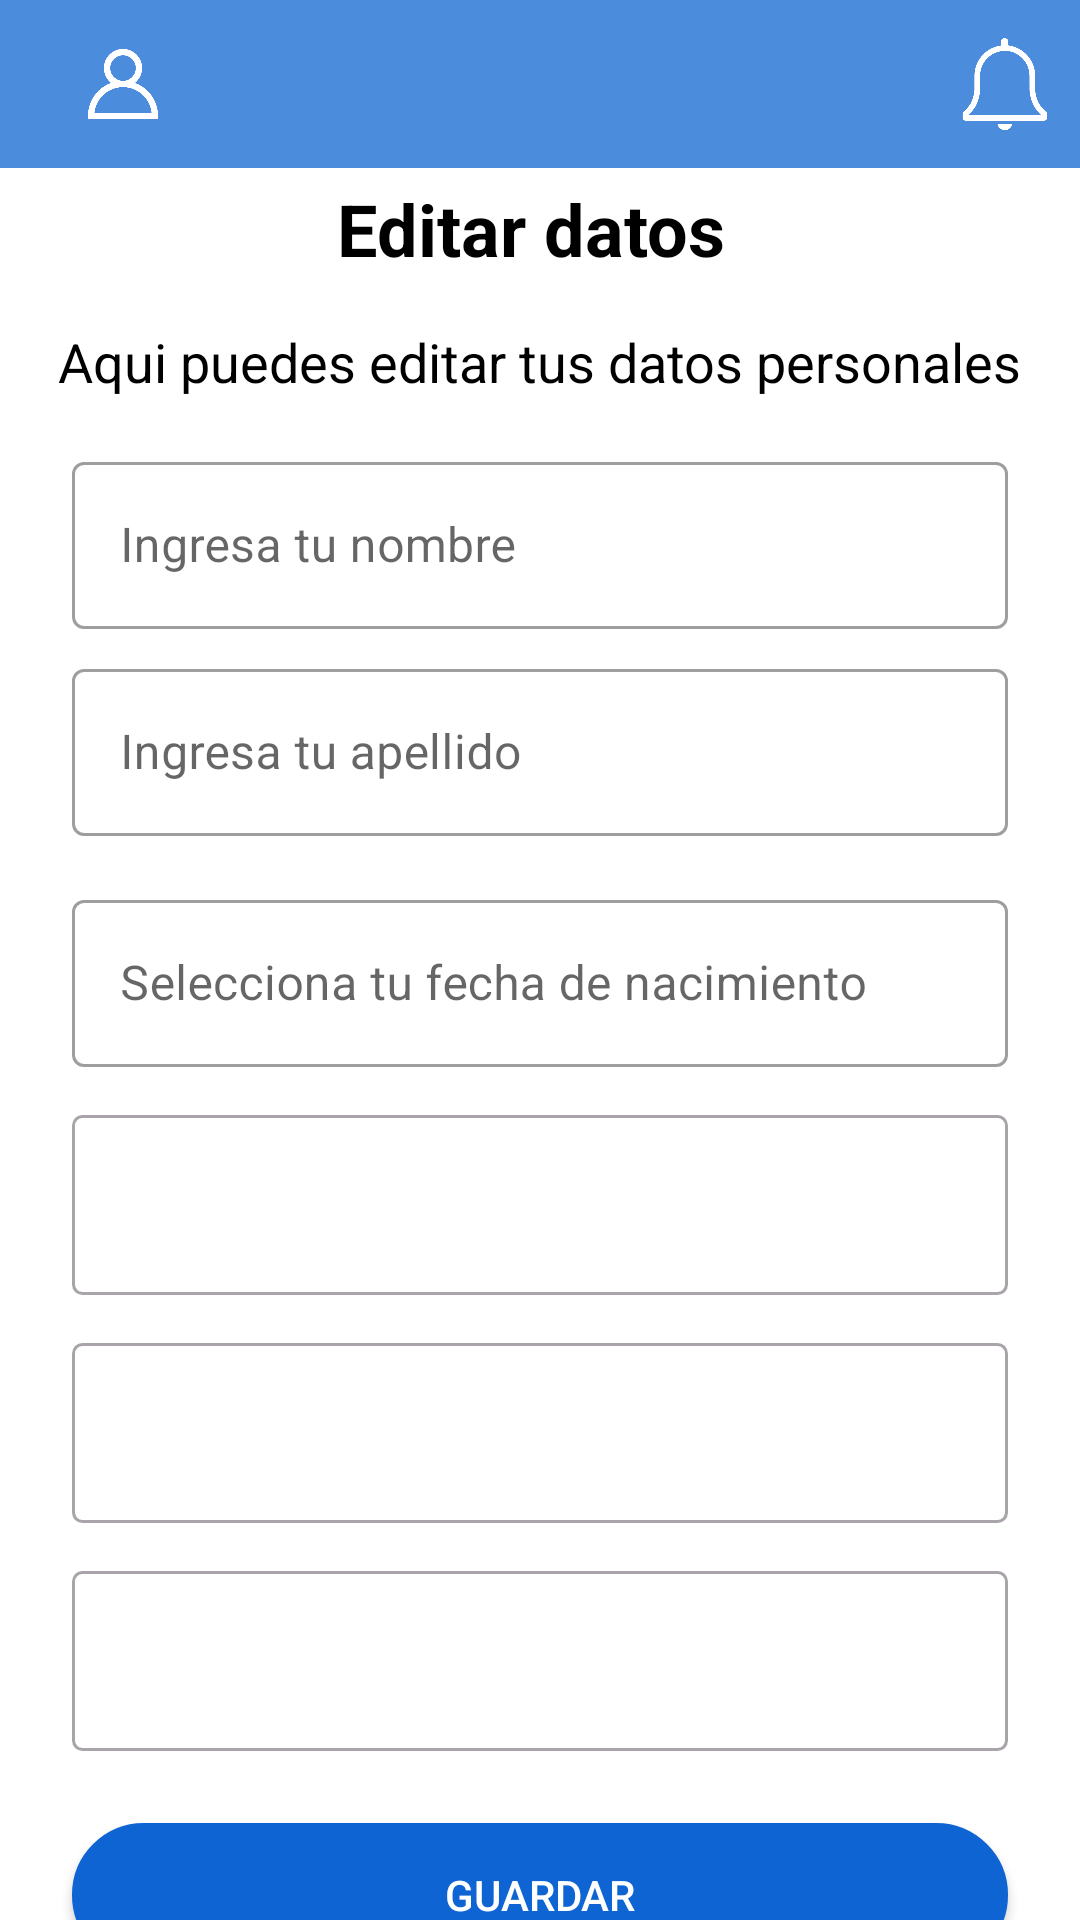

Locate icon controls on the screen. Image size 1080 × 1920, boxes as (x1, y1, x2, y2).
Notification Icon: (963, 38, 1047, 130)
User Icon: (88, 49, 158, 119)
